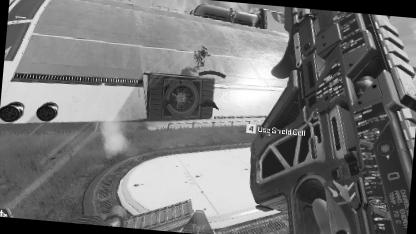Target: (191, 43, 210, 69), (227, 6, 237, 24)
